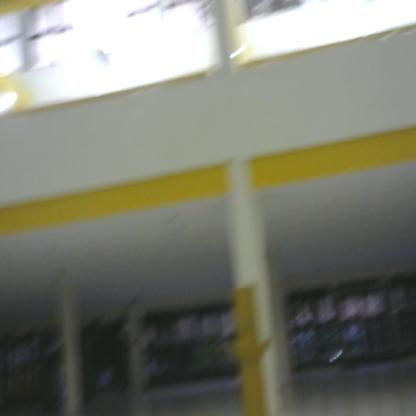pole: (216, 278, 276, 416)
